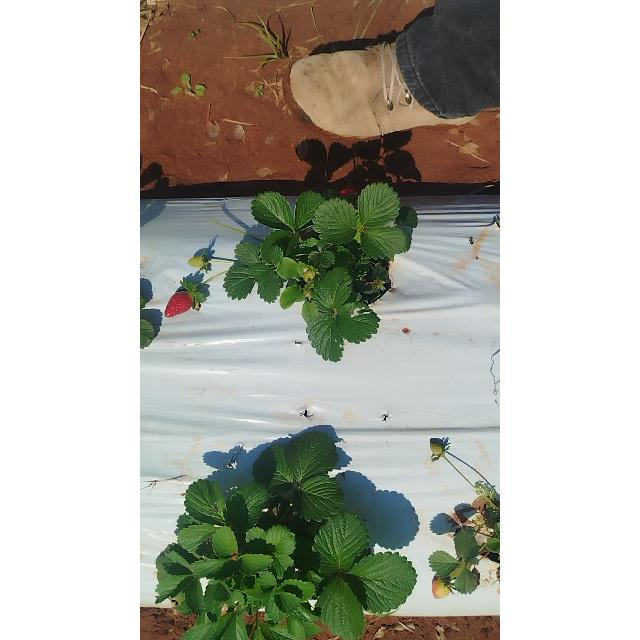maduro: (165, 290, 191, 318)
no-maduro: (429, 442, 443, 456), (188, 256, 202, 268), (304, 268, 316, 282)
semi-maduro: (432, 579, 450, 599)
